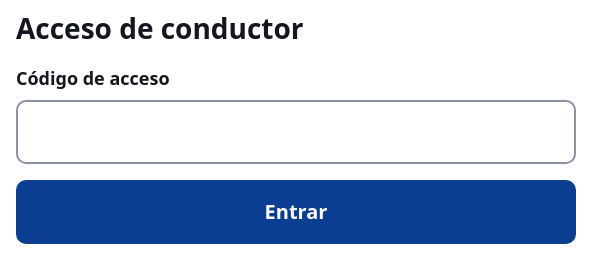
it: LoginPage › [driver_ui.AC-01] groups the digits as "1234 5678" and ignores anything else
Type "12a3456 7899" into the field labelled "Código de acceso".
click(296, 132); type("12a3456 7899")  # box [16,100,576,164]
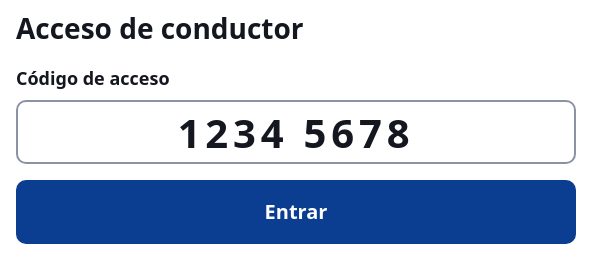
Now the field labelled "Código de acceso" holds "1234 5678", box [16,100,576,164]
